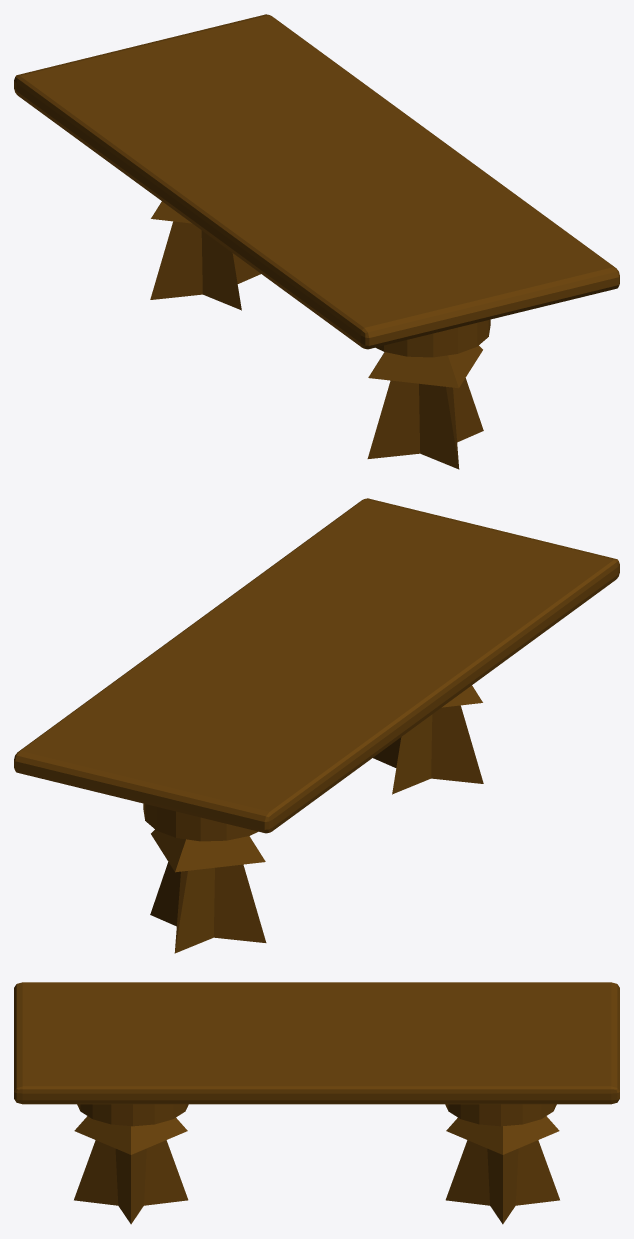
File: Table01.fbx
3 views of the same model, one above another, from view 1: azimuth 30°, elevation 25°; view 2: azimuth 150°, elevation 25°; view 3: azimuth 270°, elevation 25° (orthographic). The views are drawn at different scales.
Parts seen in each view (by area): view 1: Plane; view 2: Plane; view 3: Plane.
Boxes of the visible parts, left/top/right/bottom form: Plane: left=14, top=14, right=619, bottom=469; Plane: left=14, top=498, right=619, bottom=953; Plane: left=14, top=982, right=619, bottom=1224.
Size of the model in its own units: 446 by 322 by 1065.
